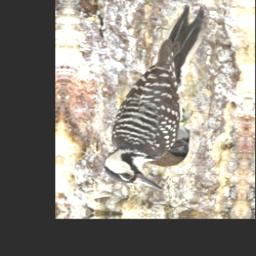Woodpecker: (101, 1, 209, 192)
